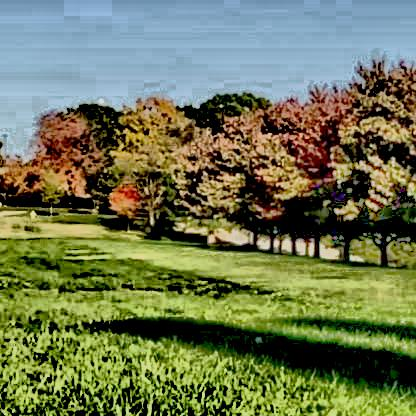golfball: (95, 96, 103, 101)
